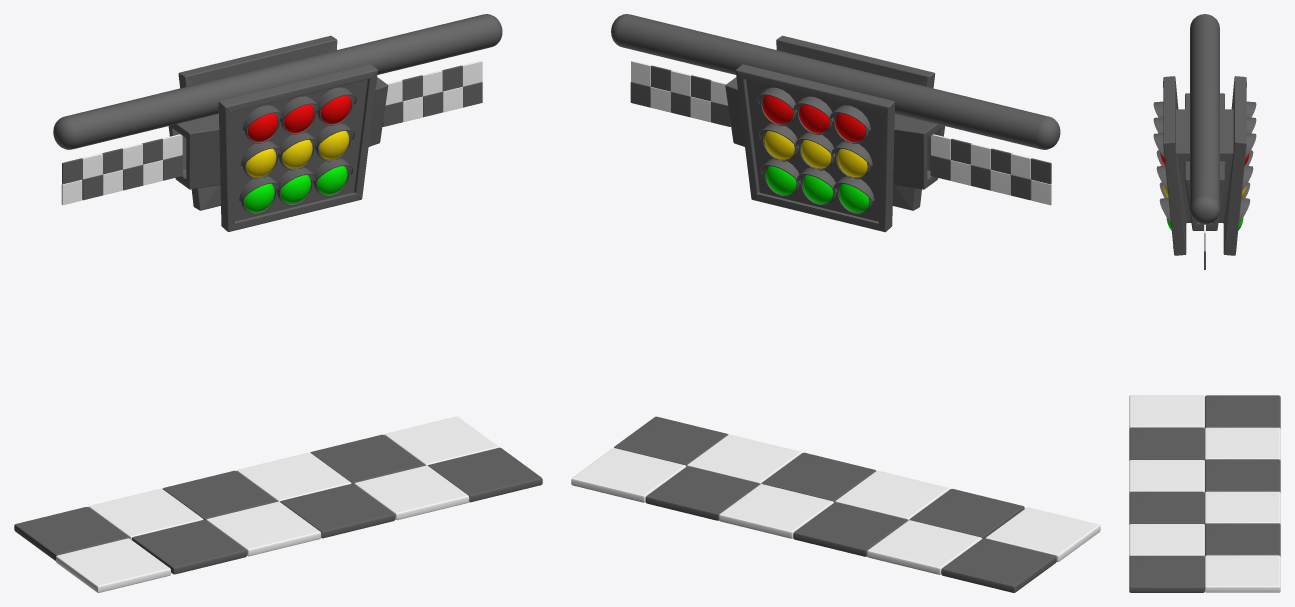
File: meta.fbx
The picture shows the model from 3 angles, left to right: view 1: azimuth 30°, elevation 25°; view 2: azimuth 150°, elevation 25°; view 3: azimuth 270°, elevation 25°; orthographic projection. The views are drawn at different scales.
Parts seen in each view (by area): view 1: Start_sign; view 2: Start_sign; view 3: Start_sign.
Part boxes in pixels (x1,y1,x2,y2): Start_sign: (14, 14, 542, 592); Start_sign: (571, 14, 1100, 592); Start_sign: (1129, 14, 1280, 592).
Bounding box in the file's own units: 4.29 × 4.06 × 1.42.
